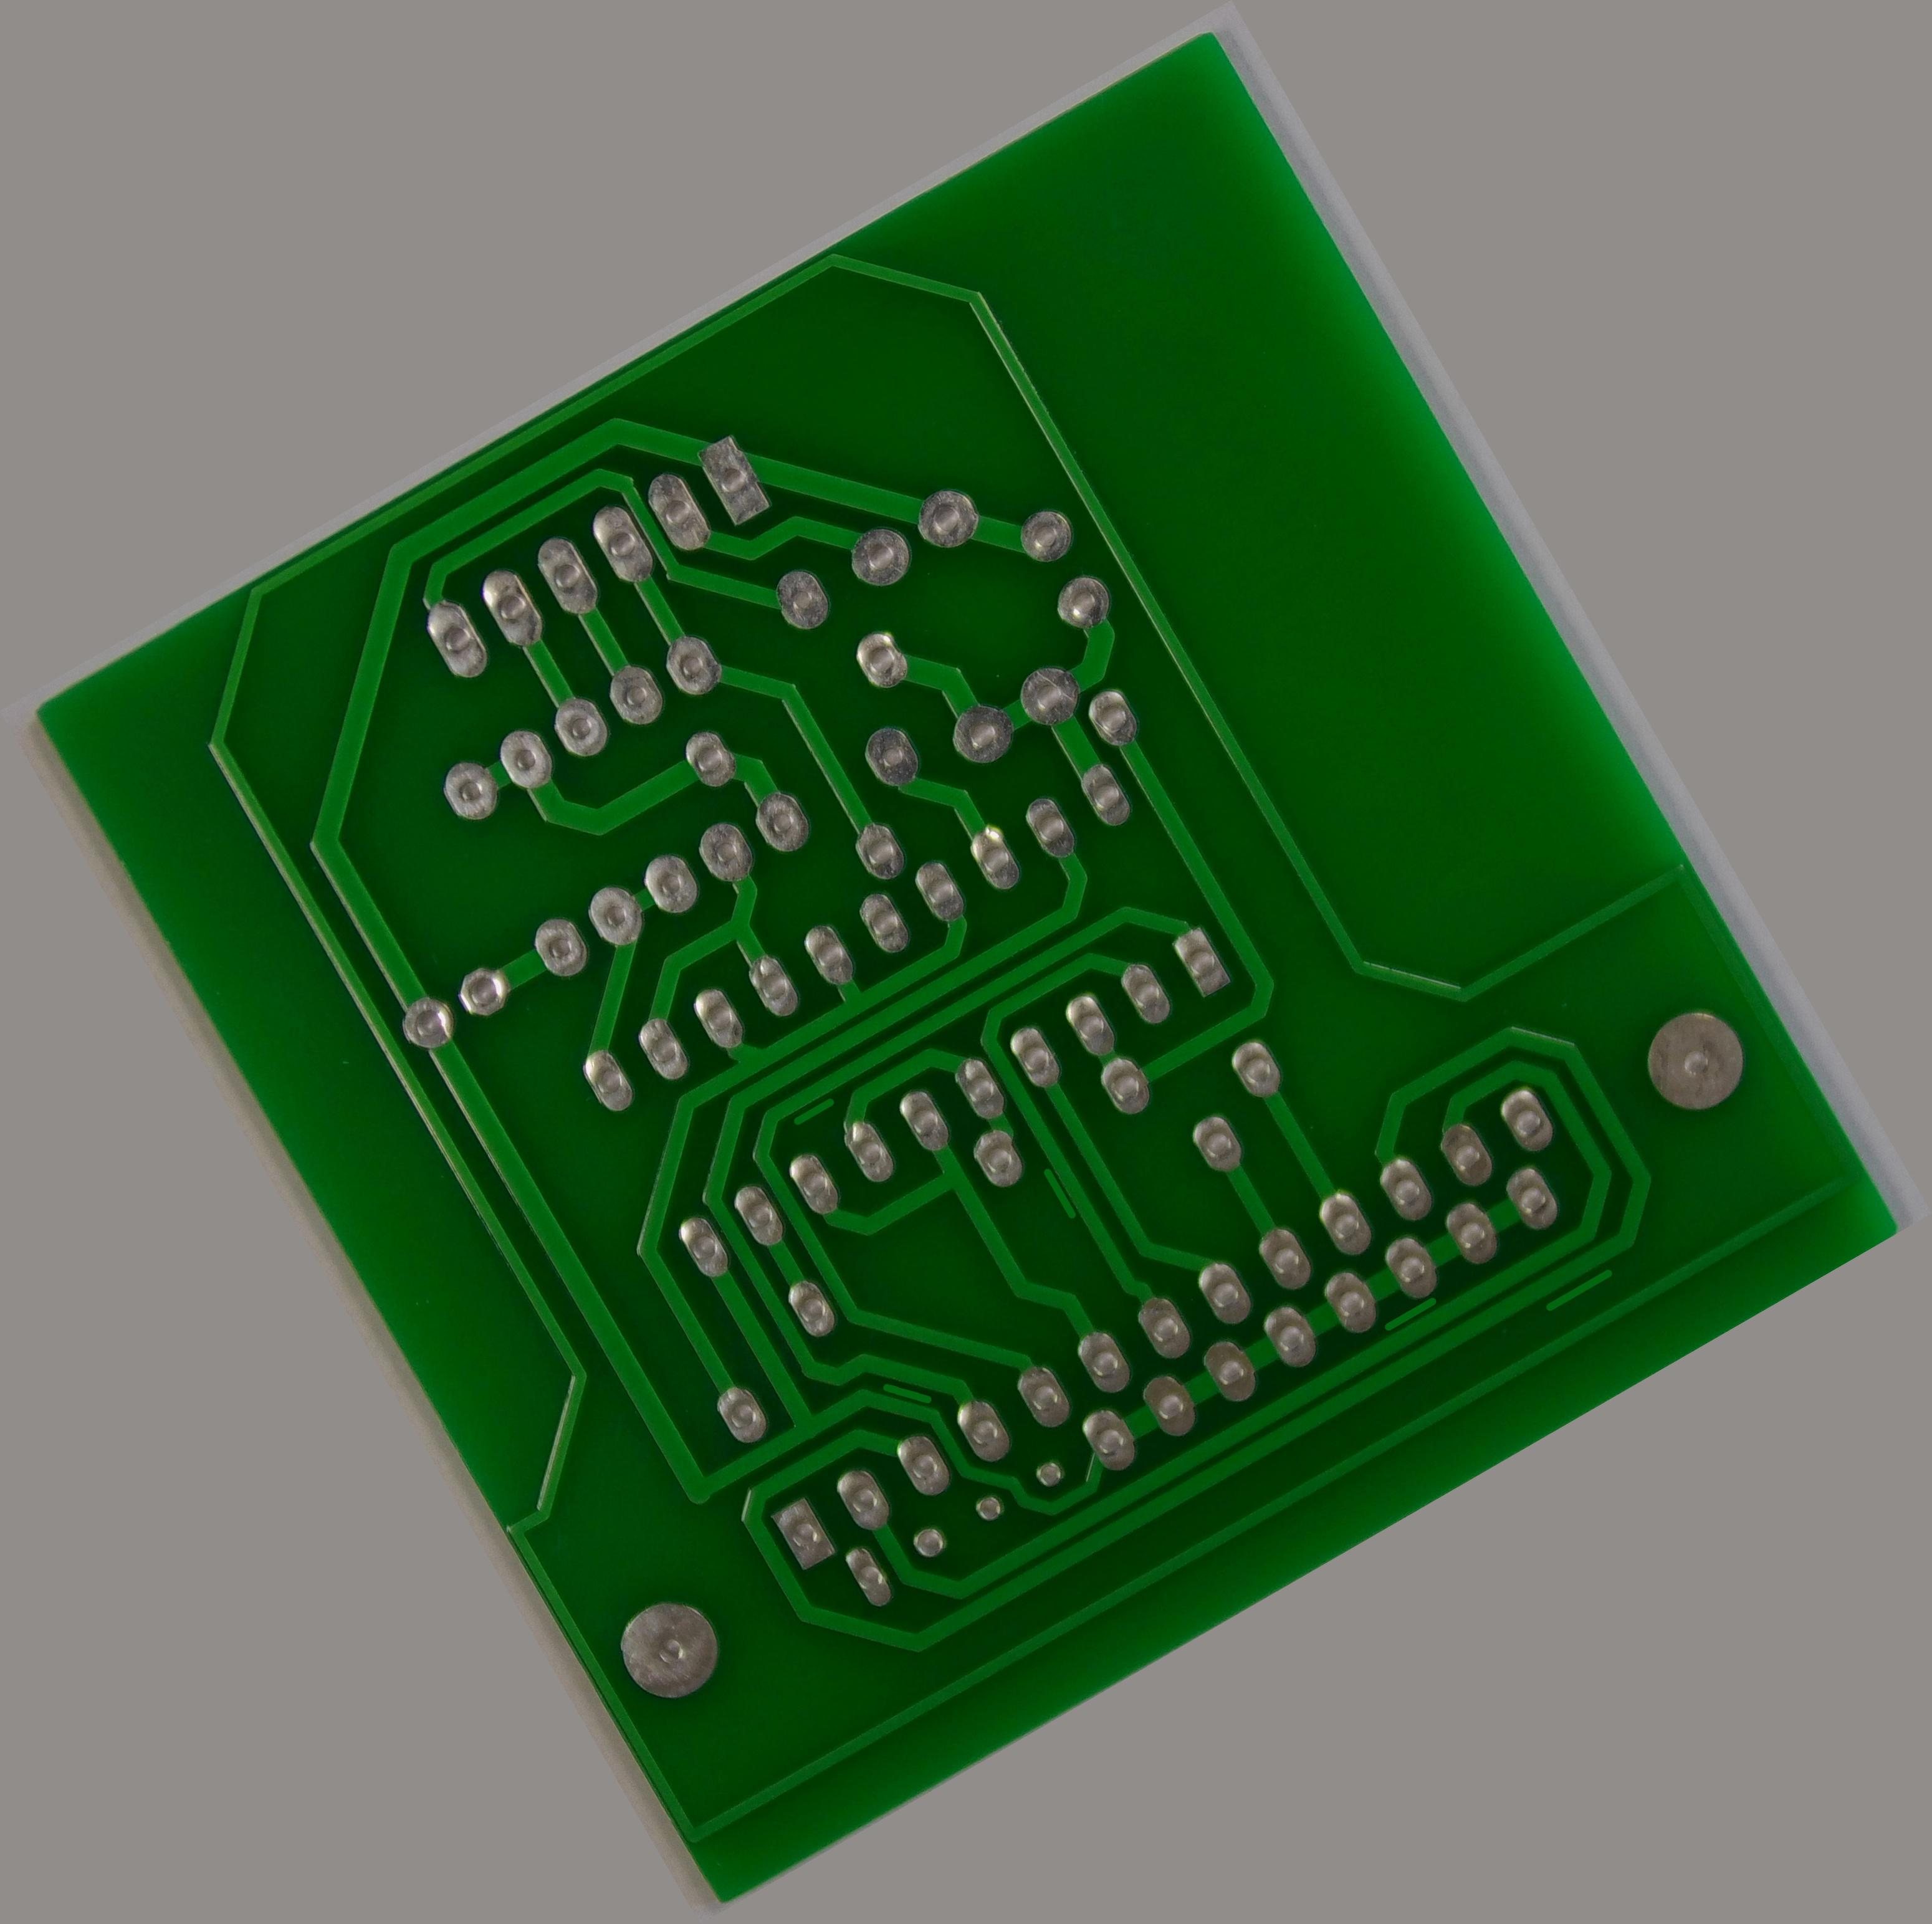spurious_copper: (1530, 1249, 1629, 1328), (872, 1355, 948, 1432), (1368, 1279, 1449, 1348), (1027, 1156, 1088, 1232), (777, 1080, 847, 1140)
